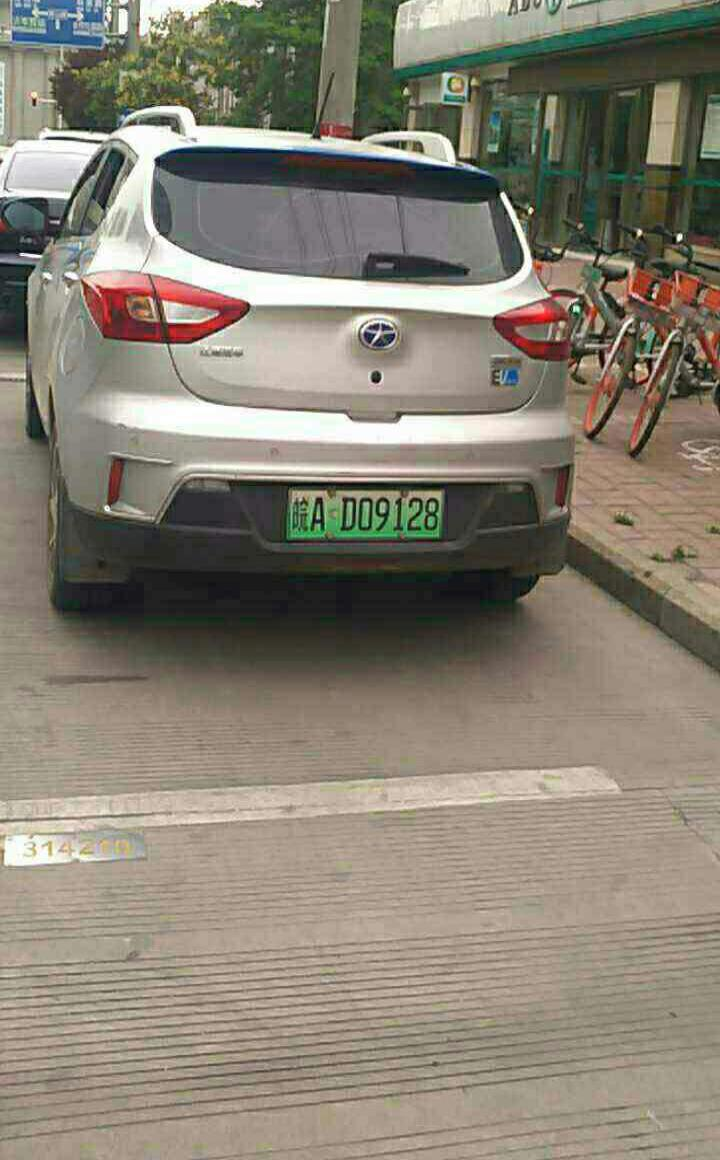car_id: (283, 488, 445, 539)
